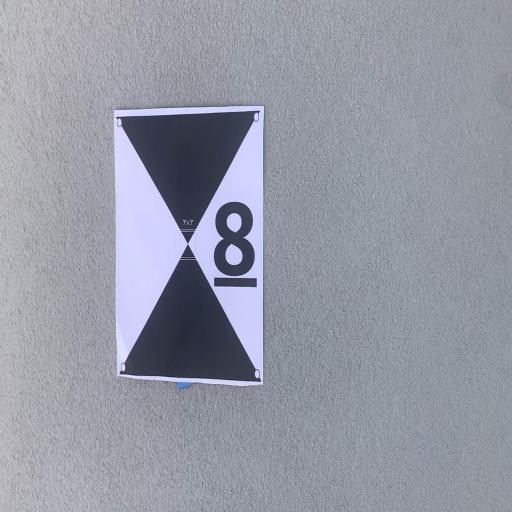target8: (115, 106, 265, 386)
